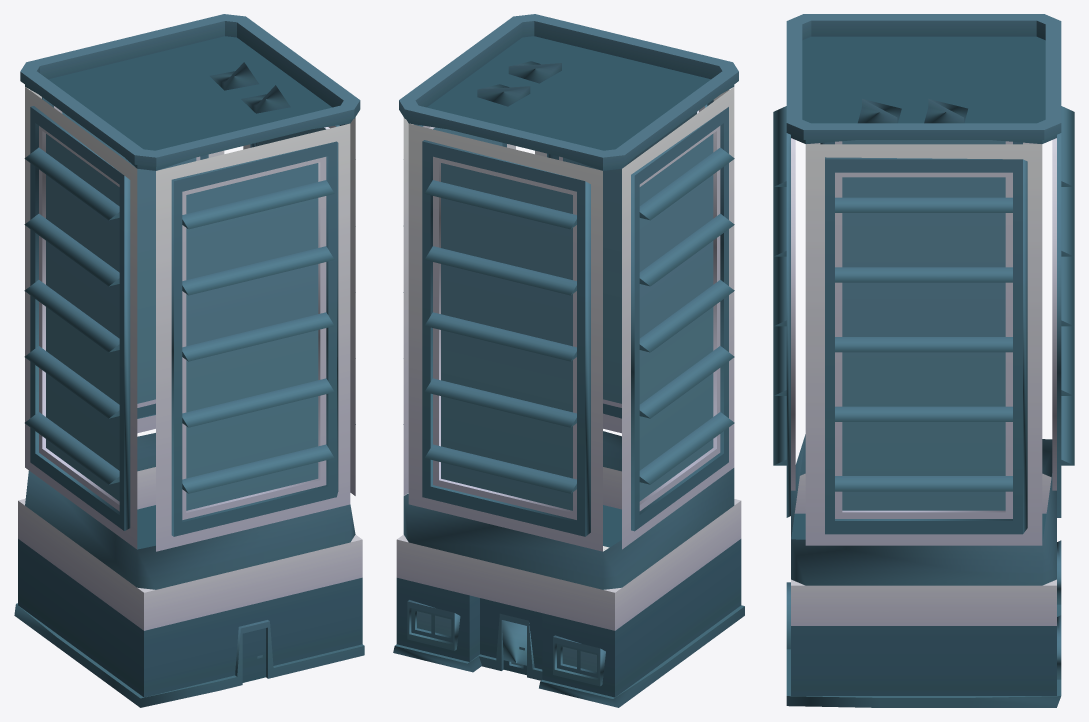
The model's file is tour-a.lod1.glb.
The picture shows the model from 3 angles, left to right: view 1: azimuth 30°, elevation 25°; view 2: azimuth 150°, elevation 25°; view 3: azimuth 270°, elevation 25°; orthographic projection. The views are drawn at different scales.
Parts seen in each view (by area): view 1: building-skyscraper-a; view 2: building-skyscraper-a; view 3: building-skyscraper-a.
Boxes of the visible parts, bbox=[...] form: building-skyscraper-a: bbox=[14, 14, 364, 707]; building-skyscraper-a: bbox=[393, 14, 744, 707]; building-skyscraper-a: bbox=[773, 14, 1074, 707].
Bounding box in the file's own units: 73.19 × 155 × 73.19.
1 material, 1 textured.
